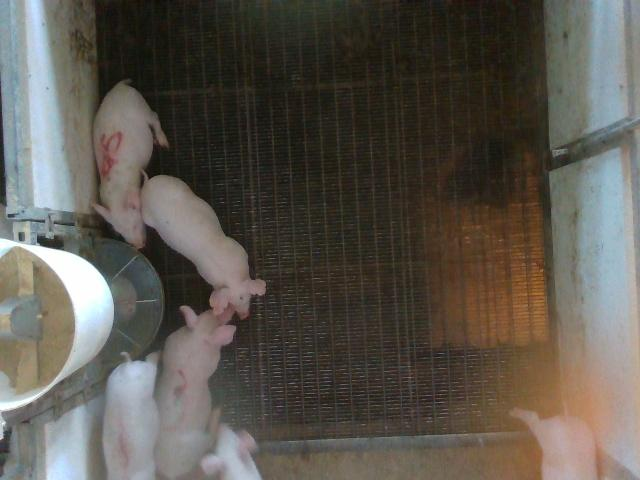pig-1: (102, 352, 159, 478)
pig-3: (155, 306, 235, 478)
pig-5: (94, 80, 169, 248)
